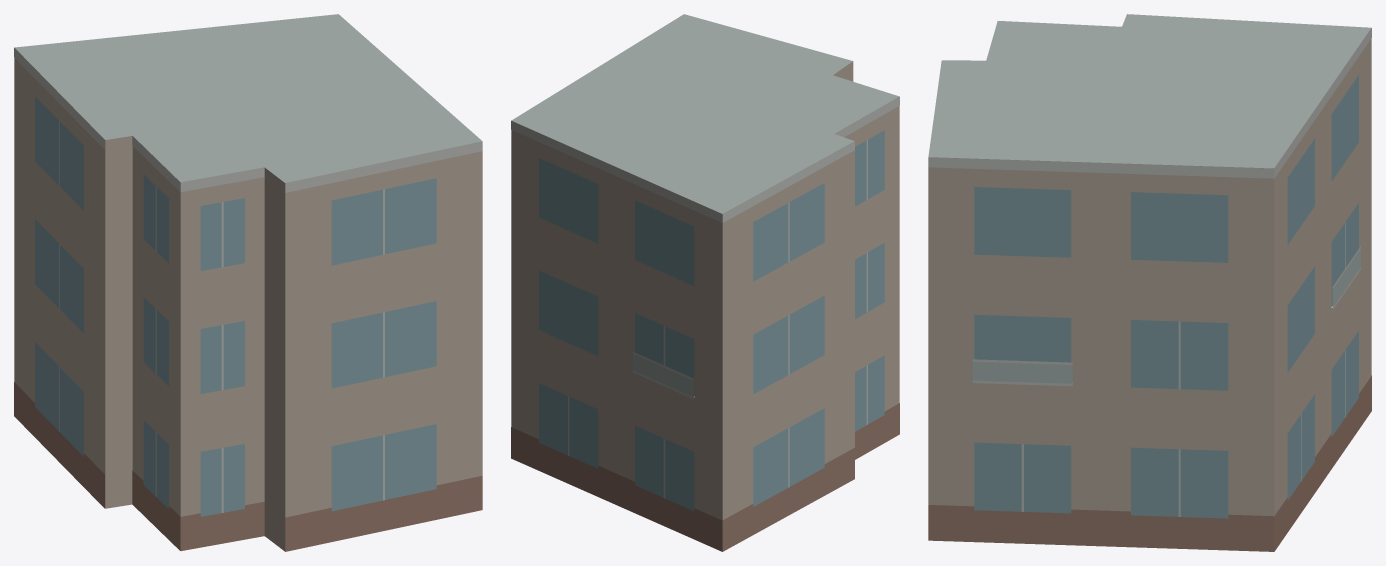
The model's file is survey-upis-32749972.glb.
3 renders of one model, left to right at view 1: azimuth 30°, elevation 25°; view 2: azimuth 150°, elevation 25°; view 3: azimuth 270°, elevation 25°, orthographic. The views are drawn at different scales.
Visible parts, largest first — view 1: survey-upis-32749972.tmp; view 2: survey-upis-32749972.tmp; view 3: survey-upis-32749972.tmp.
Part boxes in pixels (bbox=[...]): survey-upis-32749972.tmp: bbox=[14, 14, 482, 551]; survey-upis-32749972.tmp: bbox=[511, 14, 899, 551]; survey-upis-32749972.tmp: bbox=[928, 14, 1371, 551].
Bounding box in the file's own units: 7.91 × 9.15 × 9.6.
